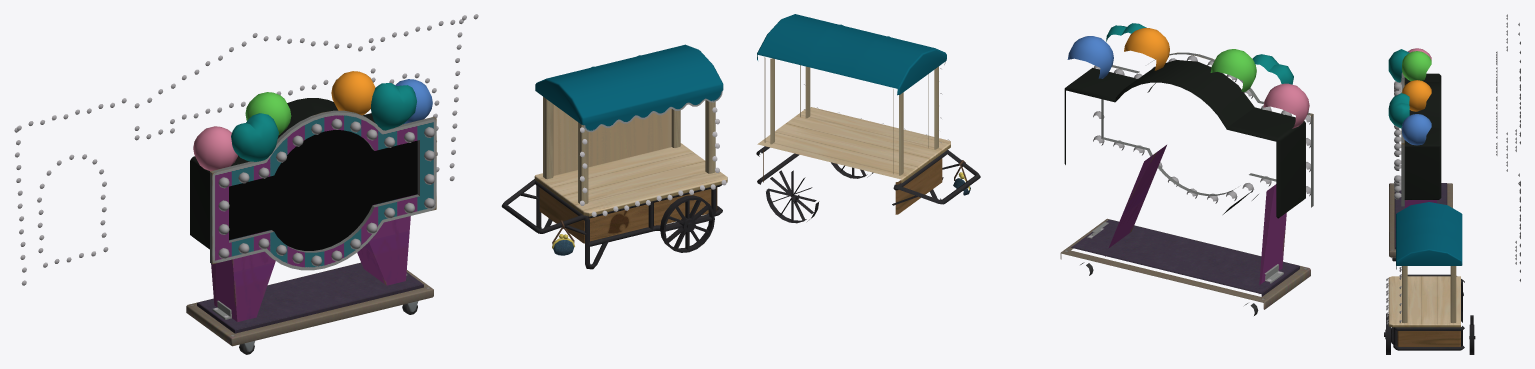
File: EvtobjCountdownStall.glb
3 renders of one model, left to right at view 1: azimuth 30°, elevation 25°; view 2: azimuth 150°, elevation 25°; view 3: azimuth 270°, elevation 25°, orthographic. The views are drawn at different scales.
Parts seen in each view (by area): view 1: Dai1__mEvtCowntdownBoard, Base__mEvtCountdownYatai01, pCylinder100_1__mEvtCountdownDenshoku, pSphere19__mEvtCountdownFusen; view 2: Dai1__mEvtCowntdownBoard, Base__mEvtCountdownYatai01, pSphere19__mEvtCountdownFusen, pCylinder100_1__mEvtCountdownDenshoku; view 3: Base__mEvtCountdownYatai01, Dai1__mEvtCowntdownBoard, pSphere19__mEvtCountdownFusen, pCylinder100_1__mEvtCountdownDenshoku.
Part boxes in pixels (x1,y1,x2,y2): Dai1__mEvtCowntdownBoard: (186, 83, 436, 354); Base__mEvtCountdownYatai01: (501, 44, 727, 269); pCylinder100_1__mEvtCountdownDenshoku: (14, 14, 726, 285); pSphere19__mEvtCountdownFusen: (193, 71, 432, 171); Dai1__mEvtCowntdownBoard: (1060, 23, 1313, 315); Base__mEvtCountdownYatai01: (756, 14, 980, 223); pSphere19__mEvtCountdownFusen: (1067, 28, 1309, 128); pCylinder100_1__mEvtCountdownDenshoku: (804, 55, 1310, 203); Base__mEvtCountdownYatai01: (1384, 202, 1475, 354); Dai1__mEvtCowntdownBoard: (1388, 49, 1452, 261); pSphere19__mEvtCountdownFusen: (1402, 48, 1431, 145); pCylinder100_1__mEvtCountdownDenshoku: (1386, 14, 1520, 324).
Size of the model in its own units: 75.42 by 28.37 by 20.52.
4 materials, 4 textured.
